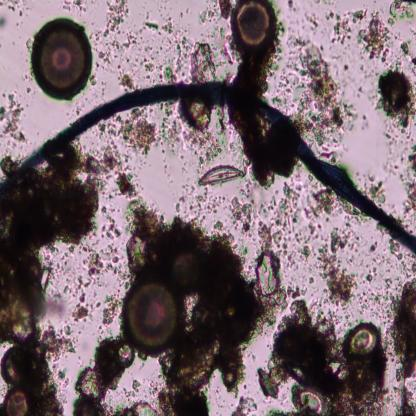Background material: (126, 202, 263, 415), (0, 142, 100, 245), (285, 37, 354, 148), (276, 299, 342, 394), (230, 102, 298, 184), (0, 252, 50, 342), (265, 180, 315, 262), (214, 30, 280, 92), (27, 330, 74, 415), (73, 338, 122, 414), (390, 276, 416, 415), (328, 354, 387, 414), (252, 249, 290, 320), (377, 67, 416, 134), (79, 244, 128, 291), (95, 0, 131, 63), (319, 256, 359, 305), (38, 241, 77, 291), (124, 109, 157, 157), (128, 36, 163, 81), (357, 273, 392, 318), (0, 89, 28, 144), (98, 119, 124, 177), (180, 184, 224, 218), (358, 18, 390, 64), (183, 130, 227, 163), (326, 8, 366, 42), (257, 359, 286, 404), (230, 195, 258, 237), (189, 40, 217, 82), (401, 143, 416, 217), (388, 238, 414, 279), (391, 372, 416, 414), (330, 223, 360, 257), (162, 102, 183, 149), (383, 1, 416, 30), (198, 1, 234, 24), (100, 292, 124, 326), (311, 188, 335, 219), (118, 397, 158, 415), (230, 391, 260, 415), (173, 36, 191, 74), (115, 170, 139, 198), (142, 19, 174, 39), (70, 292, 92, 321), (0, 0, 29, 21), (101, 209, 120, 240), (213, 100, 228, 136), (399, 41, 416, 68), (62, 0, 92, 14), (90, 66, 102, 98), (368, 183, 386, 204), (358, 110, 373, 135), (118, 67, 134, 90), (302, 11, 323, 28), (162, 64, 175, 85), (372, 242, 384, 263), (284, 0, 302, 14), (355, 78, 364, 96)
Cotton: (0, 82, 416, 254)
Diatom: (30, 16, 93, 100), (121, 279, 182, 357), (232, 0, 278, 52), (343, 322, 381, 357), (1, 345, 31, 385), (292, 385, 327, 414), (198, 163, 244, 185), (182, 99, 212, 131), (3, 386, 30, 415), (117, 342, 134, 366)
